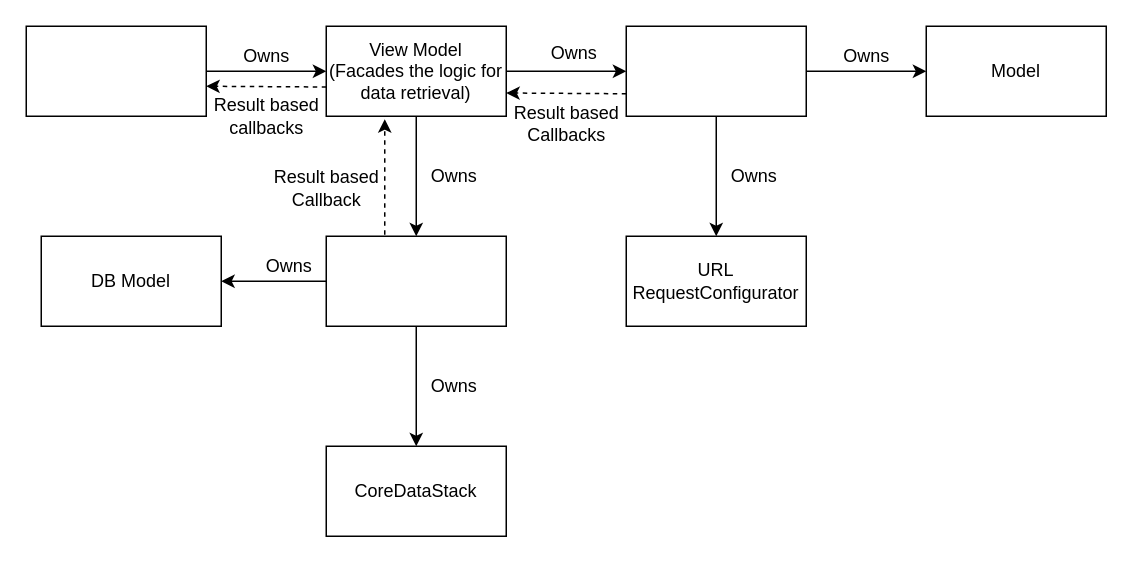
The diagram is 1133 pixels wide and 563 high, and some of its shapes have lost their labels. The shapes that lost their labels are listed below. From the top down, each one's centre as x and y in pixels, then its label:
pixel 115 70: View Controller
pixel 715 70: NetworkAdaptor (Manages the data from API)
pixel 415 280: Cache (Manages all offline data )
